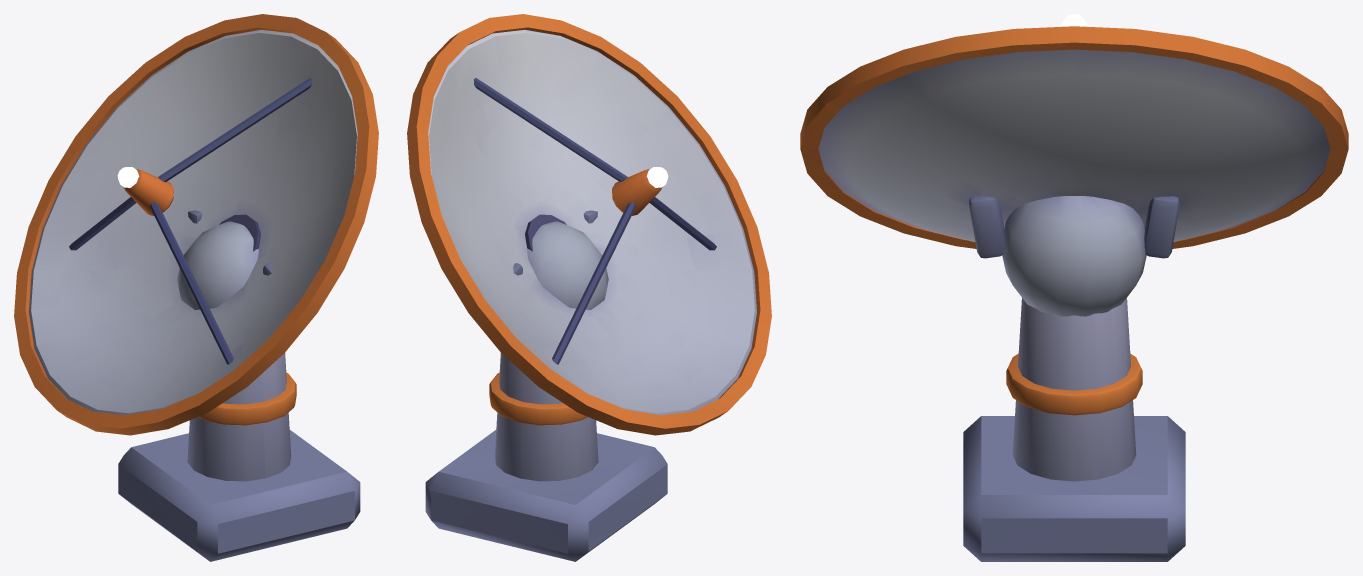
Rendered from hub_prop_antenna_dish.glb.
The picture shows the model from 3 angles, left to right: view 1: azimuth 30°, elevation 25°; view 2: azimuth 150°, elevation 25°; view 3: azimuth 270°, elevation 25°; orthographic projection. The views are drawn at different scales.
Visible parts, largest first — view 1: hub_prop_antenna_dish; view 2: hub_prop_antenna_dish; view 3: hub_prop_antenna_dish.
Boxes of the visible parts, left/top/right/bottom form: hub_prop_antenna_dish: left=14, top=14, right=378, bottom=561; hub_prop_antenna_dish: left=407, top=14, right=771, bottom=561; hub_prop_antenna_dish: left=800, top=14, right=1348, bottom=561.
Size of the model in its own units: 2.56 by 4.07 by 3.7.
